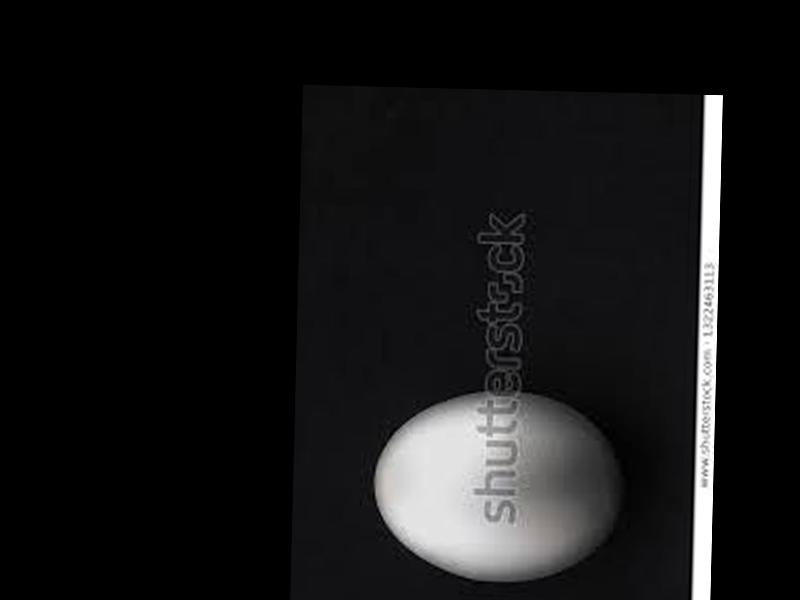Eggs: (369, 392, 622, 586)
